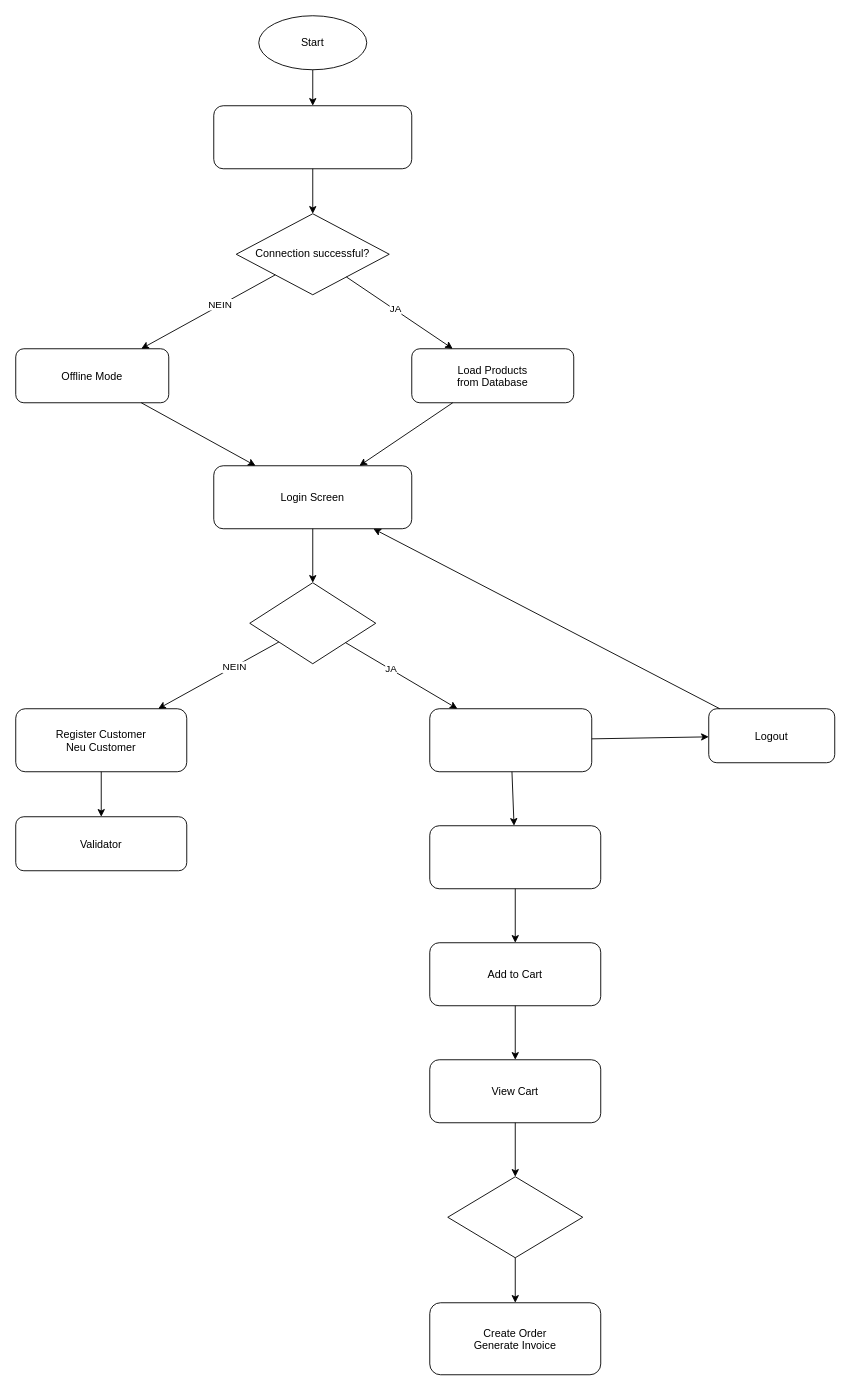
Some shapes in this 851 by 1391 pixel diagram are drawn without their labels. Each missing label, with the box of its shape:
Browse Products Filter / Sort: (429, 825, 601, 889)
Checkout?: (447, 1176, 583, 1258)
Connect Storage (MySQL?): (213, 105, 412, 169)
Login?: (249, 582, 376, 664)
Shop: (429, 708, 592, 772)
